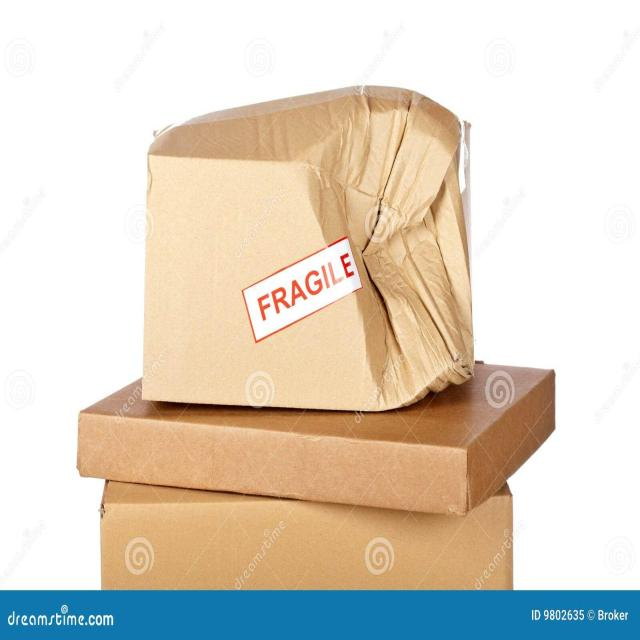Garbage: (138, 78, 482, 412)
Pathole: (69, 356, 568, 515)
